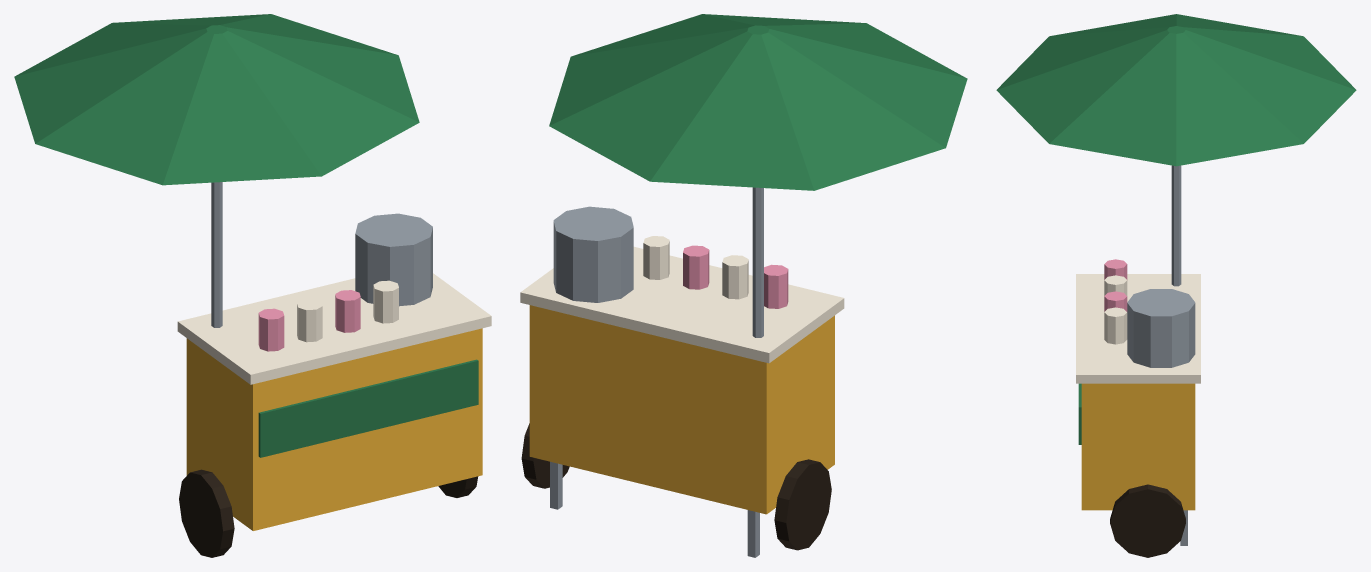
Rendered from xe-tra-sua.glb.
3 renders of one model, left to right at view 1: azimuth 30°, elevation 25°; view 2: azimuth 150°, elevation 25°; view 3: azimuth 270°, elevation 25°, orthographic. The views are drawn at different scales.
Parts seen in each view (by area): view 1: xe-tra-sua; view 2: xe-tra-sua; view 3: xe-tra-sua.
Part boxes in pixels (box(x1,y1,x2,y2)): xe-tra-sua: box(14, 14, 491, 557); xe-tra-sua: box(520, 14, 967, 557); xe-tra-sua: box(996, 14, 1356, 557).
Bounding box in the file's own units: 2.12 × 2.52 × 1.9.
